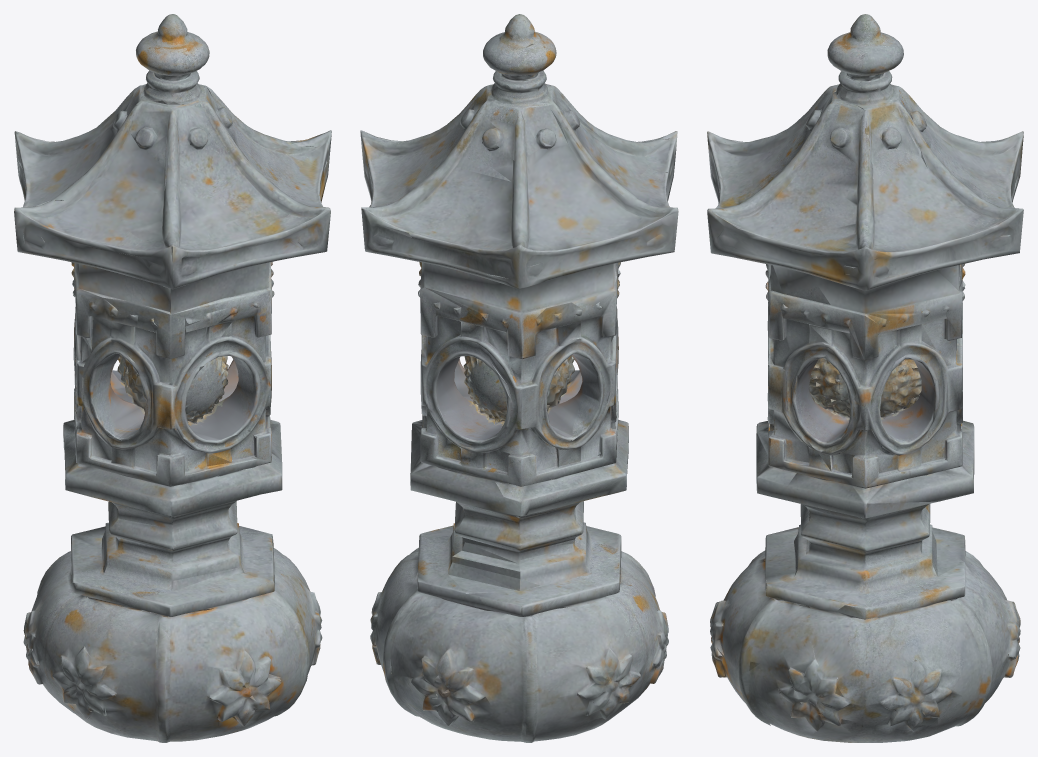
Rendered from stone-lantern.glb.
3 renders of one model, left to right at view 1: azimuth 30°, elevation 25°; view 2: azimuth 150°, elevation 25°; view 3: azimuth 270°, elevation 25°, orthographic.
Visible parts, largest first — view 1: output_unwrapped; view 2: output_unwrapped; view 3: output_unwrapped.
Boxes of the visible parts, left/top/right/bottom form: output_unwrapped: left=14, top=14, right=331, bottom=742; output_unwrapped: left=360, top=14, right=678, bottom=742; output_unwrapped: left=707, top=14, right=1023, bottom=742.
Bounding box in the file's own units: 1.18 × 2.4 × 1.01.
Materials: 1 (1 with a texture image).
